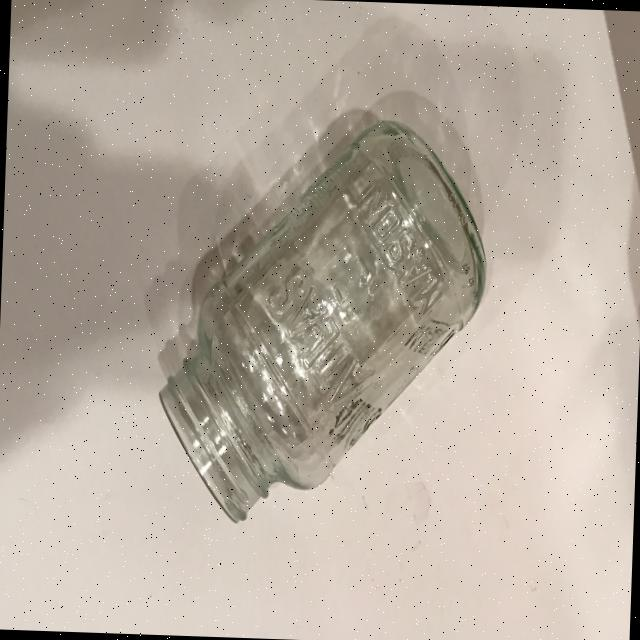glass: (152, 103, 492, 530)
